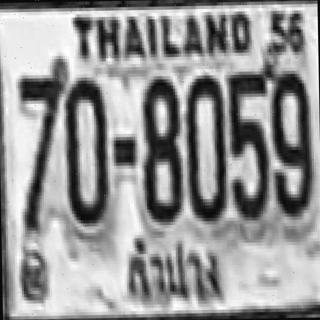N00: (63, 76, 106, 225), (183, 72, 224, 218)
N05: (227, 70, 268, 219)
N07: (15, 56, 66, 228)
N08: (140, 74, 182, 220)
N09: (269, 70, 312, 214)
P20: (120, 228, 232, 308)
